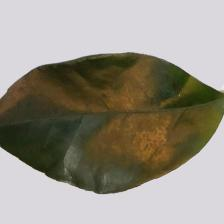healthy: (19, 71, 186, 189)
